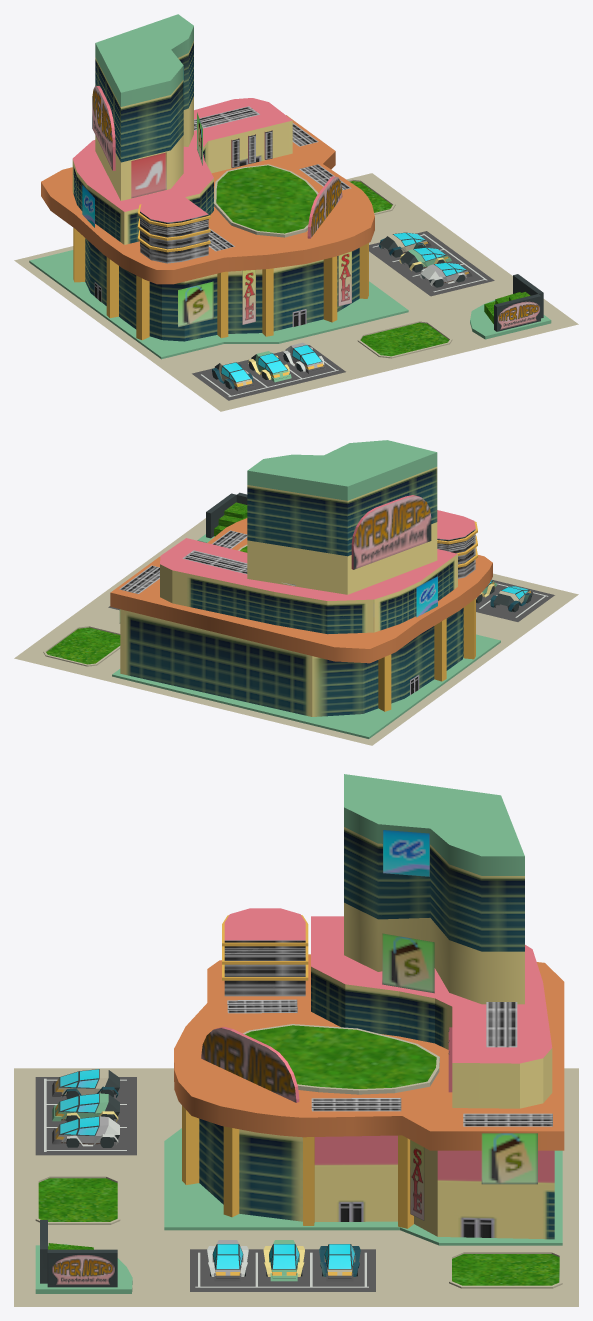
File: departmentstore_LV1.fbx
The picture shows the model from 3 angles, top to bottom: view 1: azimuth 30°, elevation 25°; view 2: azimuth 150°, elevation 25°; view 3: azimuth 270°, elevation 25°; orthographic projection. The views are drawn at different scales.
Visible parts, largest first — view 1: mall level 1; view 2: mall level 1; view 3: mall level 1.
Part boxes in pixels (left/top/right/bottom): mall level 1: left=14, top=14, right=578, bottom=411; mall level 1: left=14, top=440, right=578, bottom=745; mall level 1: left=14, top=774, right=578, bottom=1306.
Size of the model in its own units: 120 by 73.16 by 120.
